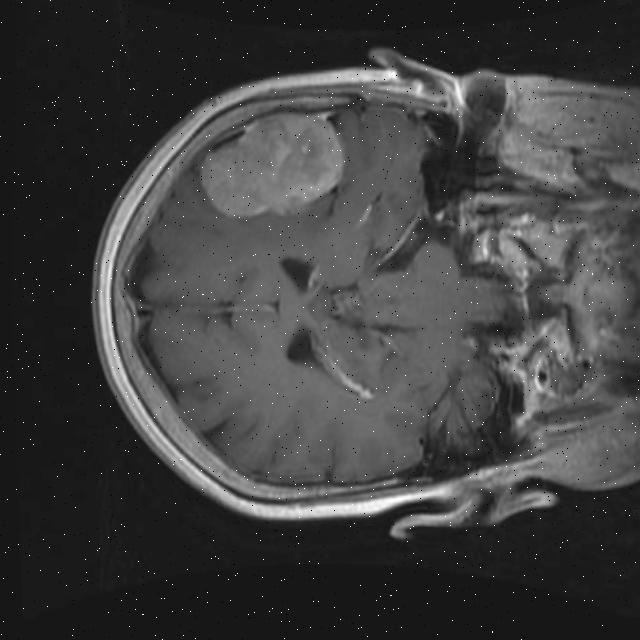Meningioma: (194, 99, 350, 226)
